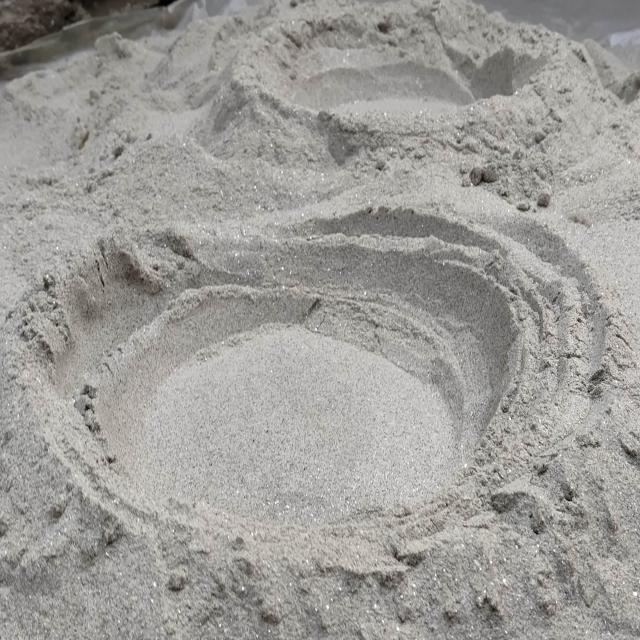C20: (51, 242, 514, 543), (269, 43, 519, 124)
